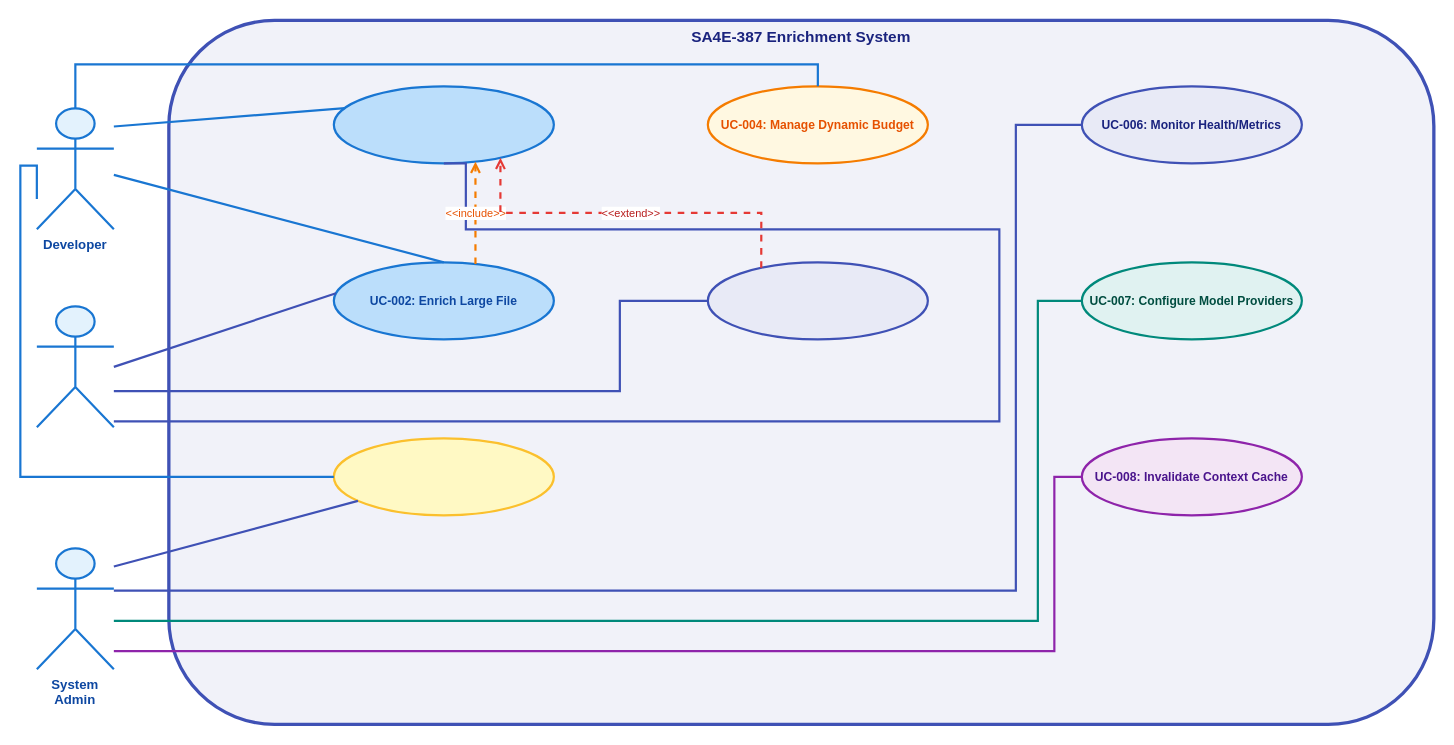
The diagram is 1454 pixels wide and 745 high, and some of its shapes have lost their labels. The shapes that lost their labels are listed below. From the top down, each one's centre as x and y in pixels, then its label:
At (443,124): "UC-001: Enrich Code Symbol".
At (817,300): "UC-005: View Enrichment Logs".
At (74,366): "API Consumer".
At (443,476): "UC-003: Swap Model Runtime".
